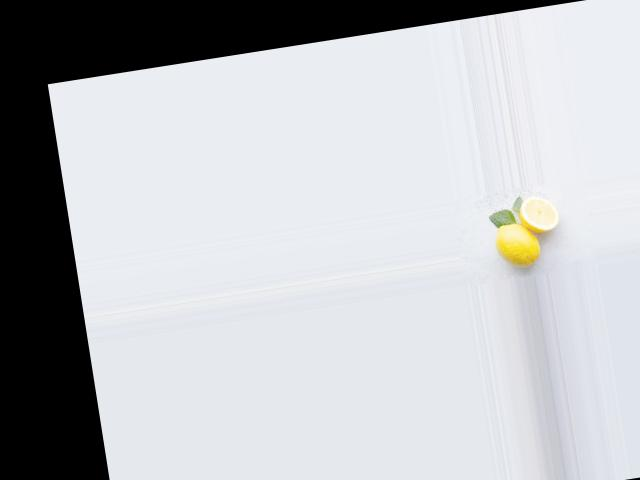lemon: (488, 216, 542, 272)
